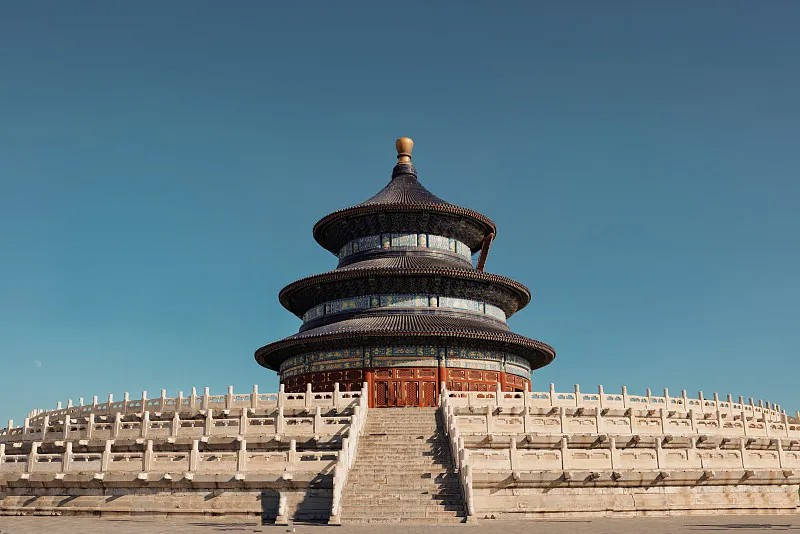Heaven: (253, 137, 556, 404)
